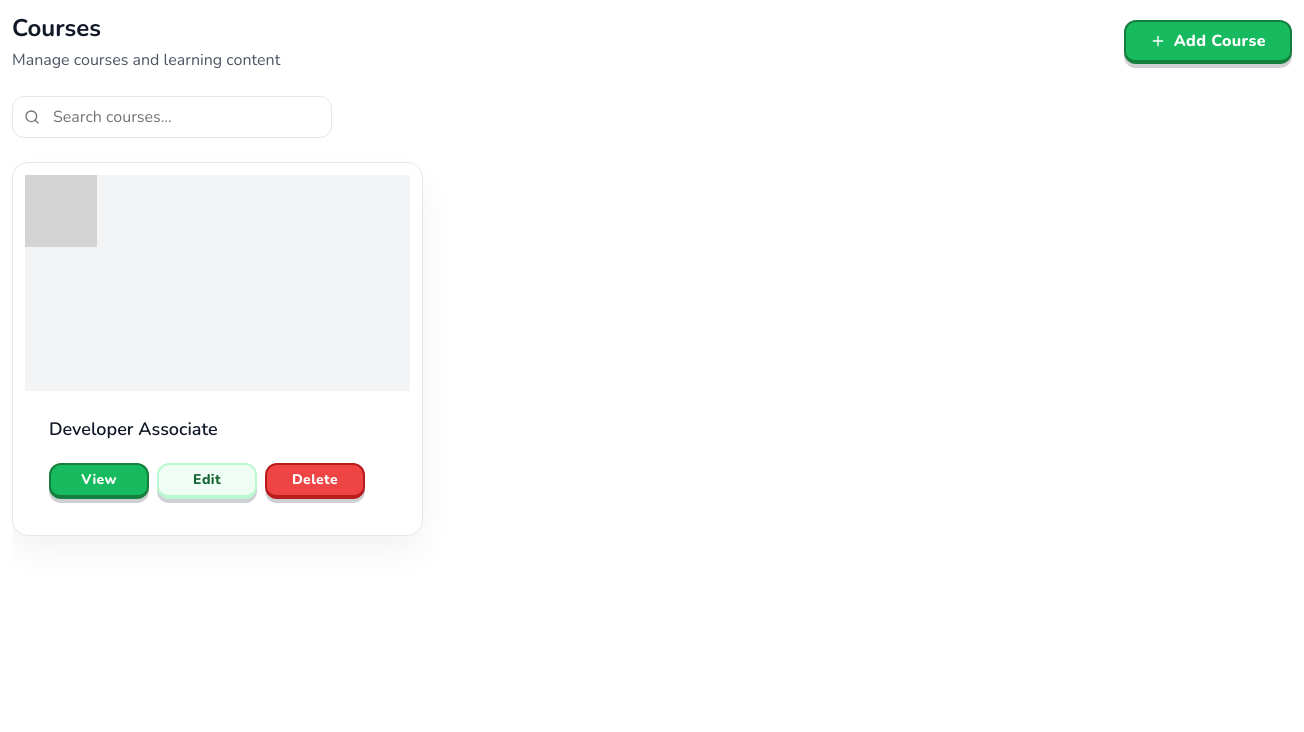
Test case: Admin CoursesPage › deletes a course after confirmation
Expected: the heading "Developer Associate" is shown, [49,417,218,441]
Click the button "Delete" at (315, 481), box [265,463,365,499]
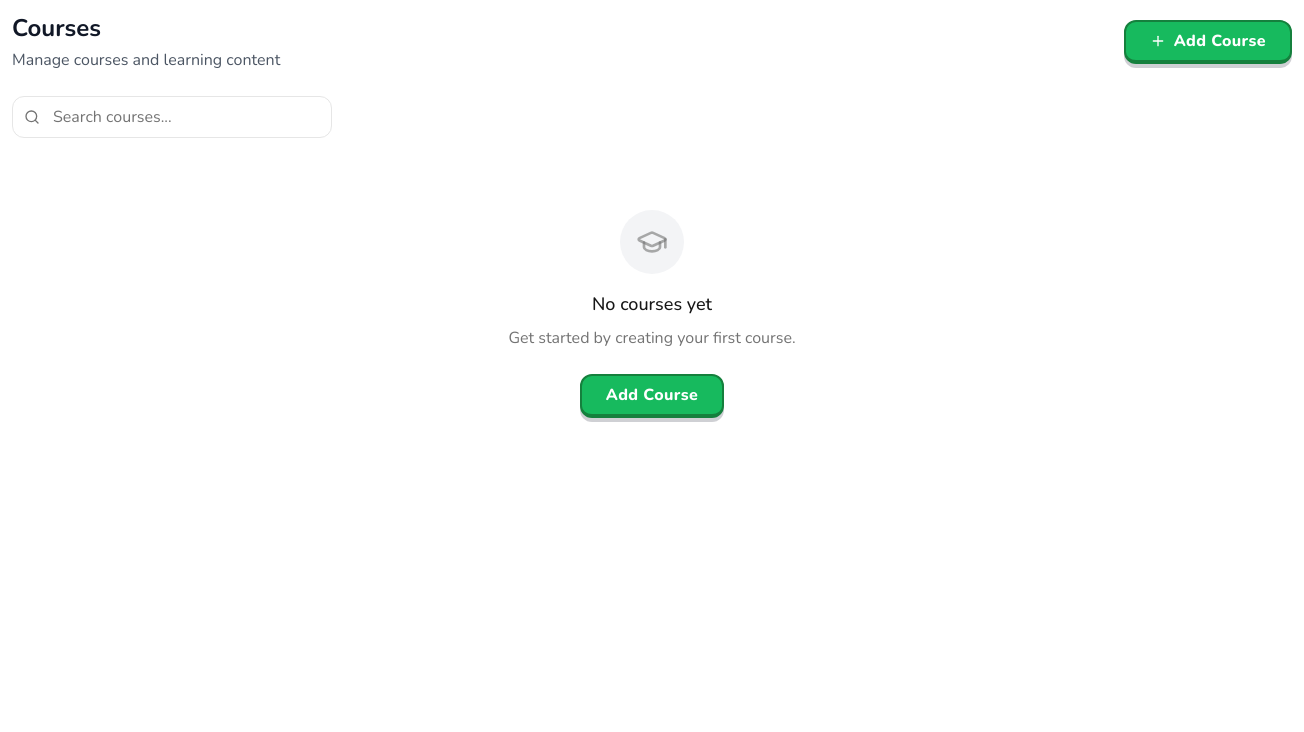
Expected: the heading "Developer Associate" is gone
